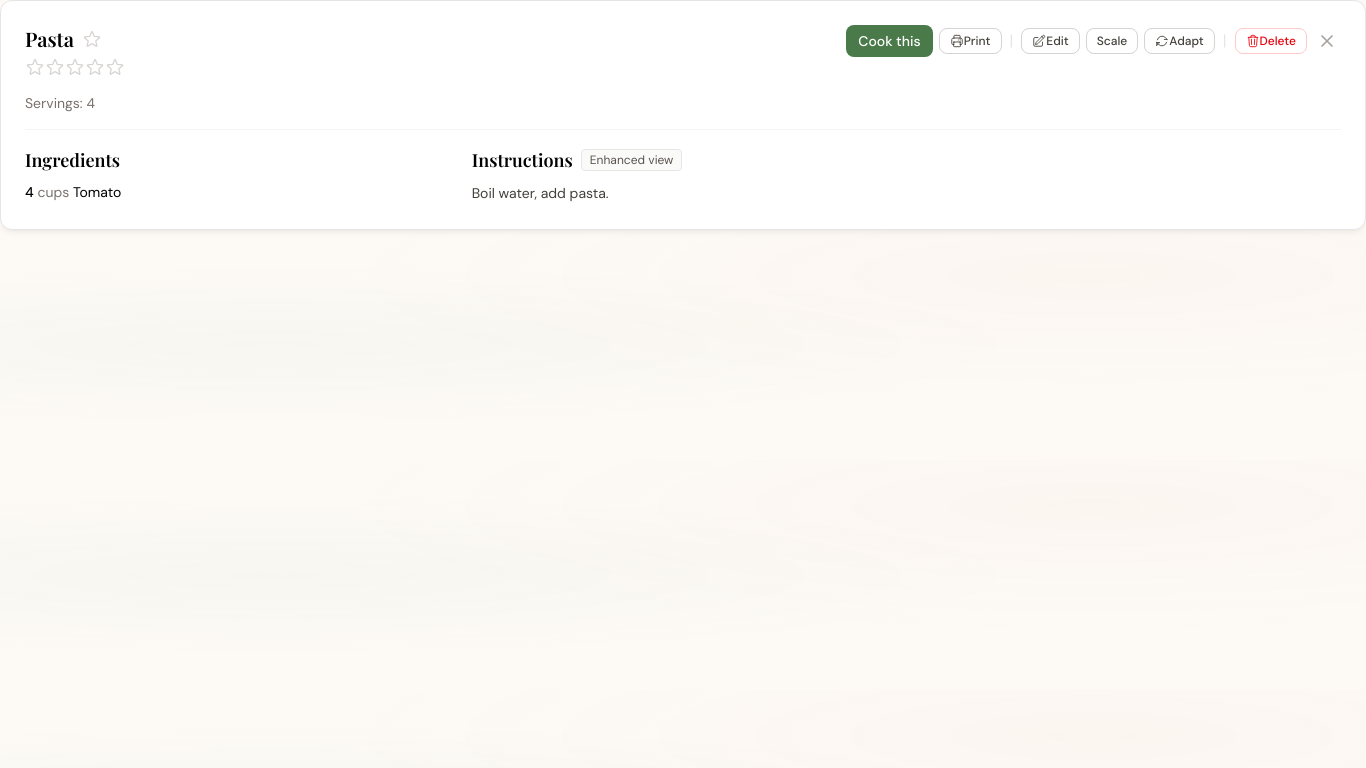
RecipeDetail enhanced-view failure handling › keeps the recipe viewable when the enhance request rejects (network error)
Expected: the text "Boil water, add pasta." is shown, left=472, top=184, right=609, bottom=202
Click the button "Enhanced view": (632, 160) left=581, top=149, right=682, bottom=171
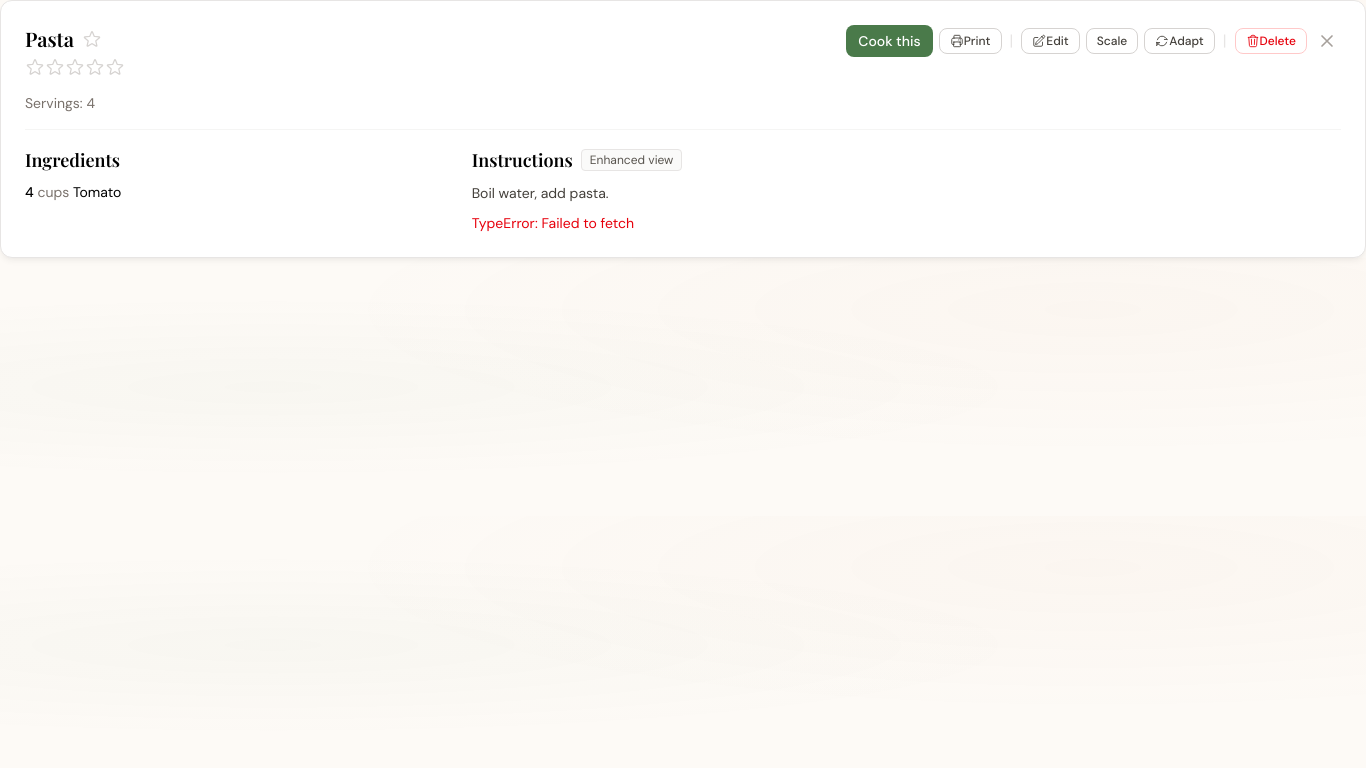
Expected: the text "Boil water, add pasta." is shown, left=472, top=184, right=609, bottom=202
Now the text "TypeError: Failed to fetch" is shown, box left=472, top=214, right=634, bottom=232
